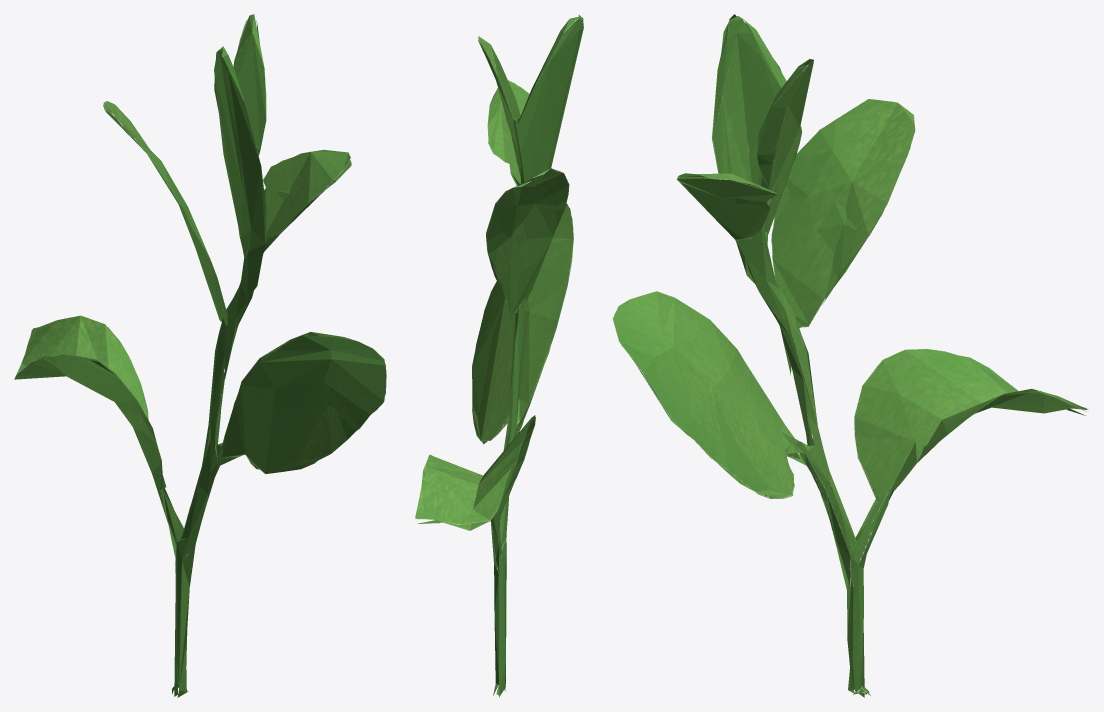
File: Plant_2_Fixed.glb
3 views of the same model, side by side, from view 1: azimuth 30°, elevation 25°; view 2: azimuth 150°, elevation 25°; view 3: azimuth 270°, elevation 25° (orthographic). The views are drawn at different scales.
Visible parts, largest first — view 1: plantphase1; view 2: plantphase1; view 3: plantphase1.
Boxes of the visible parts, <box> form: plantphase1: <box>14,14,386,697</box>; plantphase1: <box>415,14,583,697</box>; plantphase1: <box>612,14,1088,697</box>.
Size of the model in its own units: 0.0405 by 0.1451 by 0.0929.
1 material, 1 textured.
